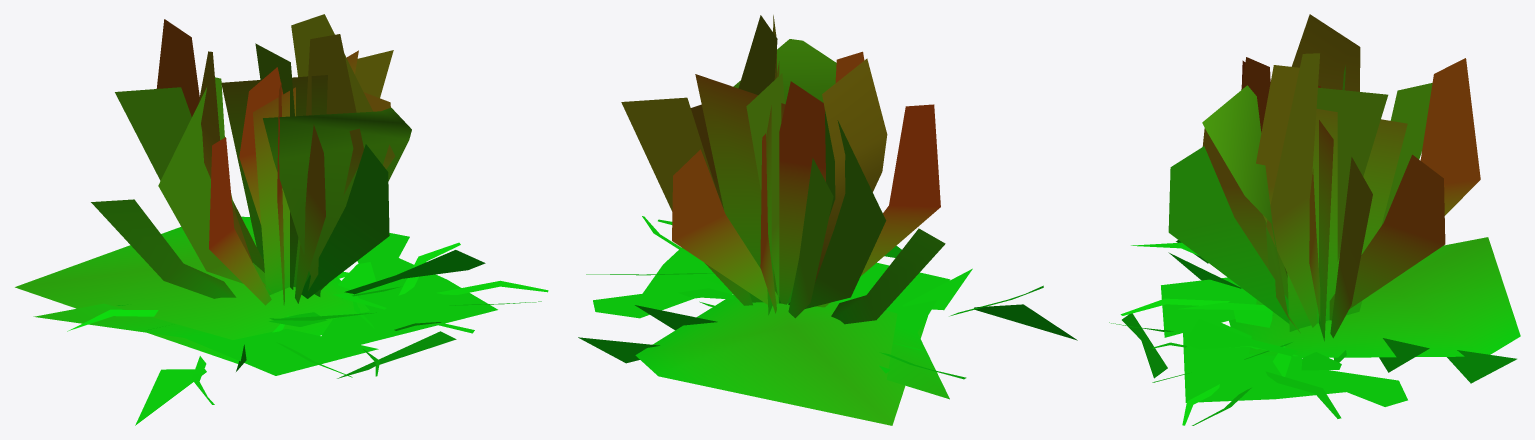
File: Var3_LOD3.fbx
The picture shows the model from 3 angles, left to right: view 1: azimuth 30°, elevation 25°; view 2: azimuth 150°, elevation 25°; view 3: azimuth 270°, elevation 25°; orthographic projection. The views are drawn at different scales.
Visible parts, largest first — view 1: _cl5p_Var3_LOD3; view 2: _cl5p_Var3_LOD3; view 3: _cl5p_Var3_LOD3.
Part boxes in pixels (x1=…): _cl5p_Var3_LOD3: x1=15, y1=14, x2=548, y2=425; _cl5p_Var3_LOD3: x1=578, y1=15, x2=1077, y2=425; _cl5p_Var3_LOD3: x1=1109, y1=14, x2=1520, y2=425.
Bounding box in the file's own units: 72.01 × 49.77 × 59.5.
